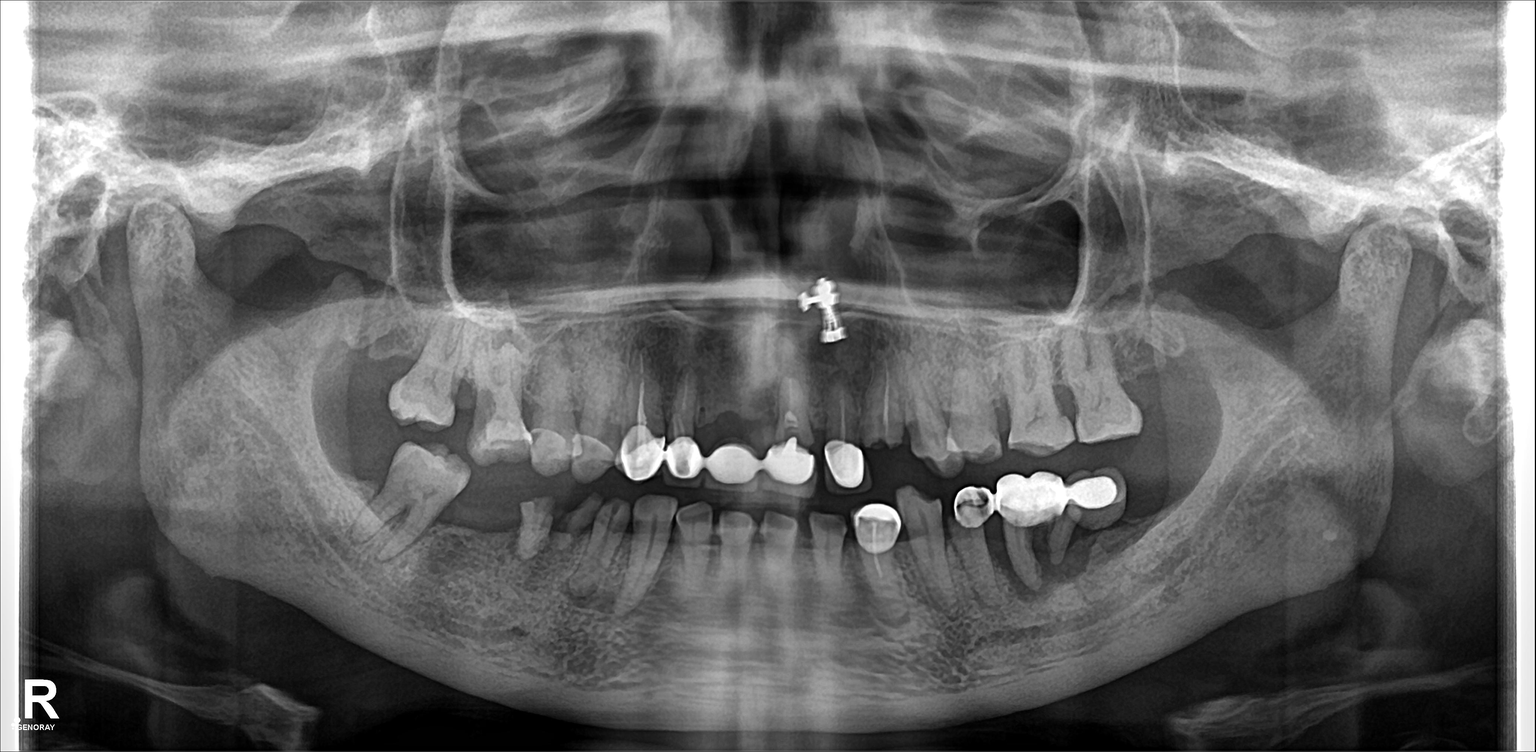Dental Caries: (441, 376, 498, 413), (1054, 382, 1086, 425)
Endodontically Treated Tooth: (760, 376, 821, 490), (1002, 480, 1061, 591), (859, 497, 904, 626), (710, 374, 761, 484), (1071, 473, 1123, 579), (825, 382, 869, 499), (955, 491, 1000, 594), (626, 365, 663, 474), (667, 369, 702, 477), (860, 359, 903, 441)
Missing Tooth: (1125, 324, 1190, 434), (350, 316, 402, 413), (343, 421, 390, 520), (462, 471, 504, 573), (1130, 463, 1177, 545)
Periapical Lesion: (587, 530, 705, 627)
Retained Root: (553, 488, 606, 565), (508, 477, 554, 563)
